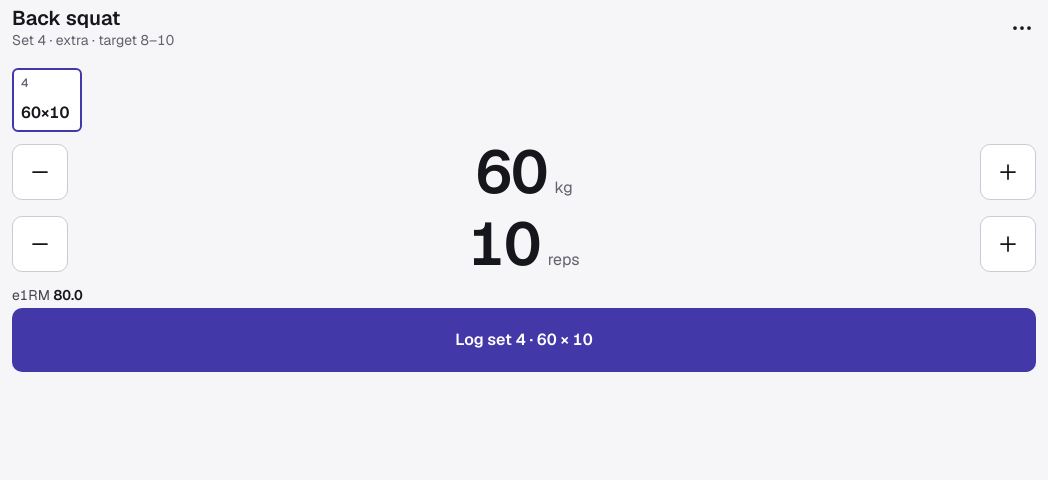
Scenario: O2 logging an extra set returns the set screen to the done state, offering Add set and no Log set
The width and height of the screenshot is (1048, 480).
Click the button "Log set 4 · 60 × 10" at (524, 340), box [12,308,1036,372]
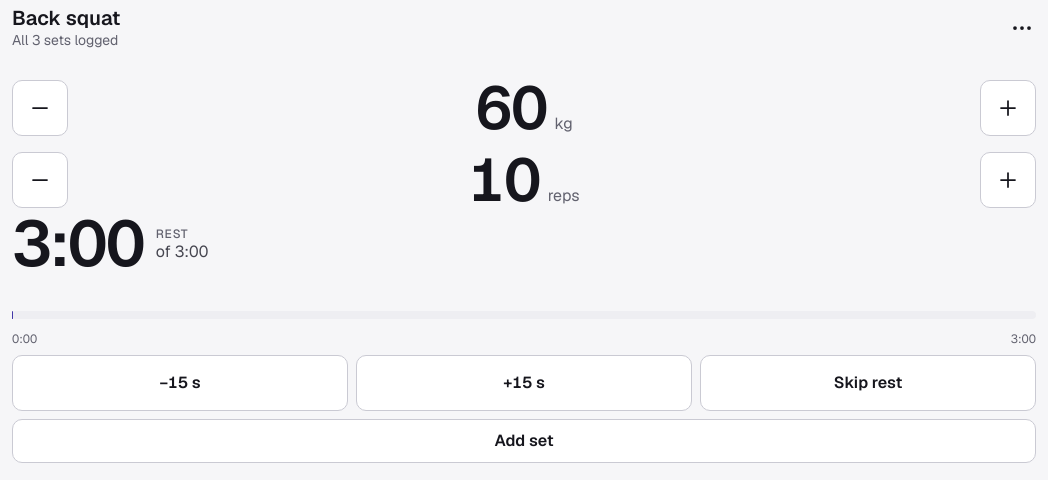
Expected: the button "Add set" is shown, [12,419,1036,463]
Expected: the button "Log set" is gone
